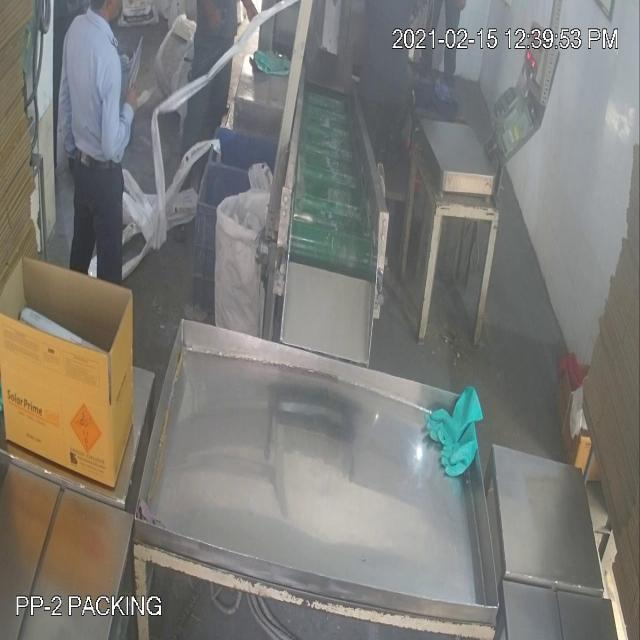gloves: (426, 373, 486, 490)
no-gloves: (98, 49, 142, 173)
